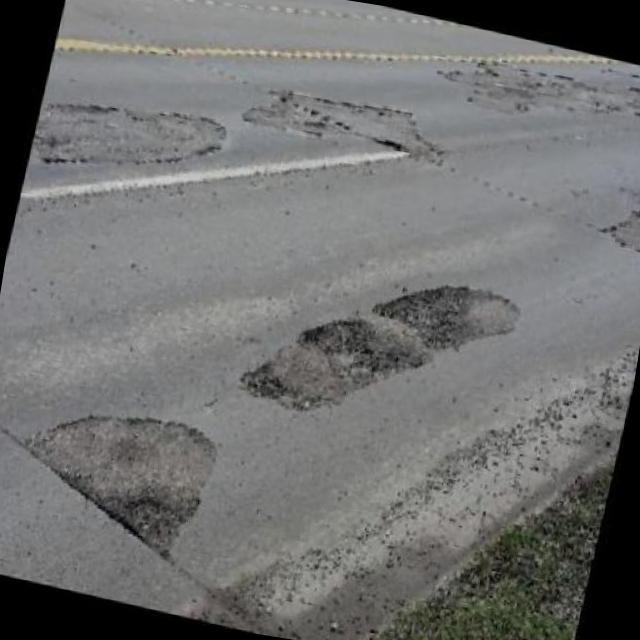Pothole: (23, 416, 218, 564), (242, 320, 427, 410), (241, 91, 431, 160), (32, 104, 227, 164), (437, 61, 640, 115), (374, 285, 521, 352), (599, 211, 640, 250)
